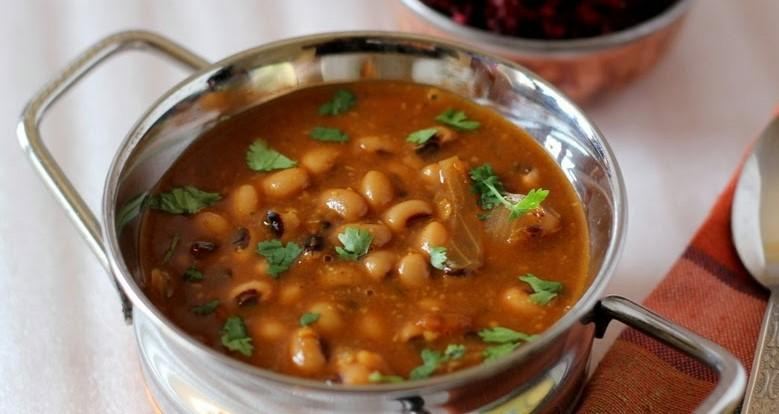RajmaCurry: (142, 81, 589, 384)
